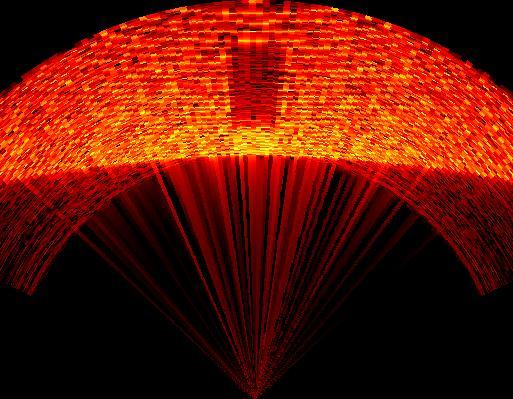box_crate: (223, 46, 282, 129)
